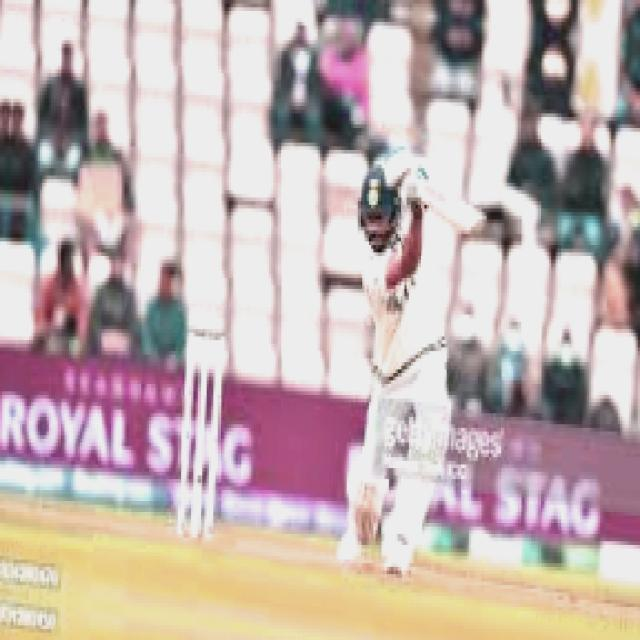toe: (453, 206, 487, 238)
